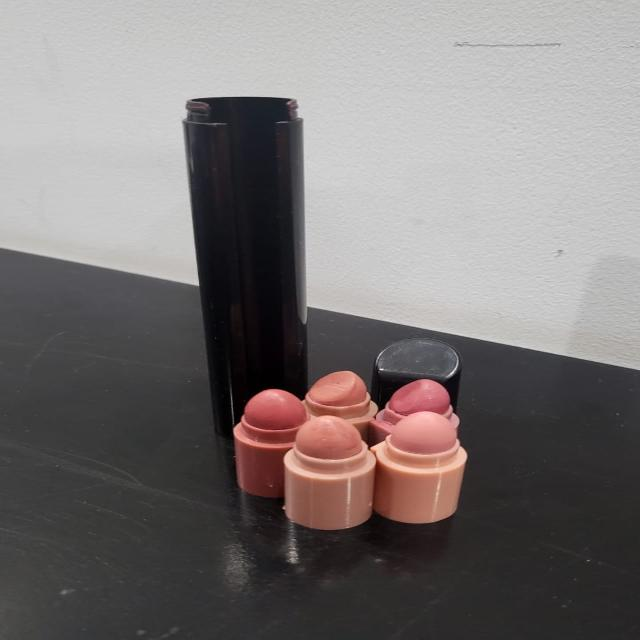lip stick: (280, 409, 378, 538), (386, 372, 469, 469), (232, 380, 313, 444), (300, 366, 384, 422)
